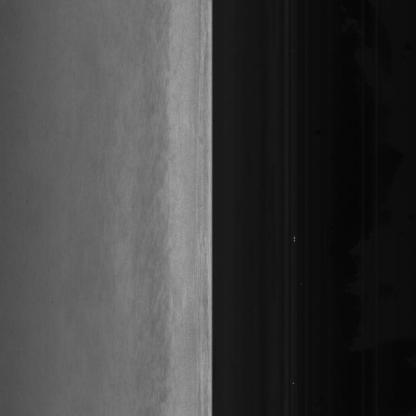silk_spot: (140, 97, 176, 294)
